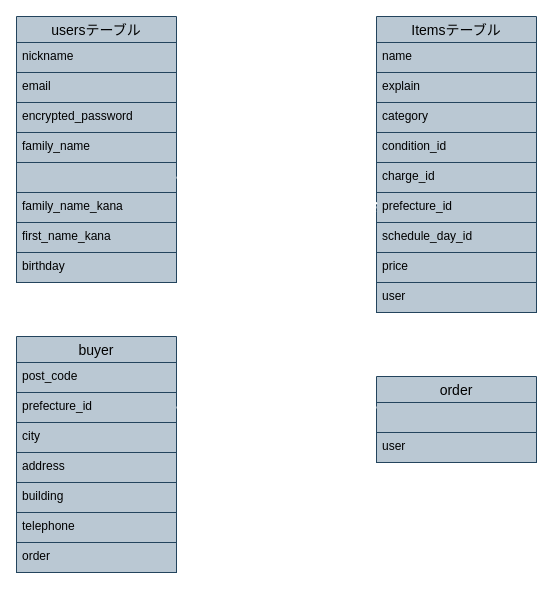
Some shapes in this 553 by 589 pixel diagram are drawn without their labels. The shapes that lost their labels are listed below. From the top down, each one's centre as x and y in pixels, then its label:
(96,177): first_name
(456,417): item
